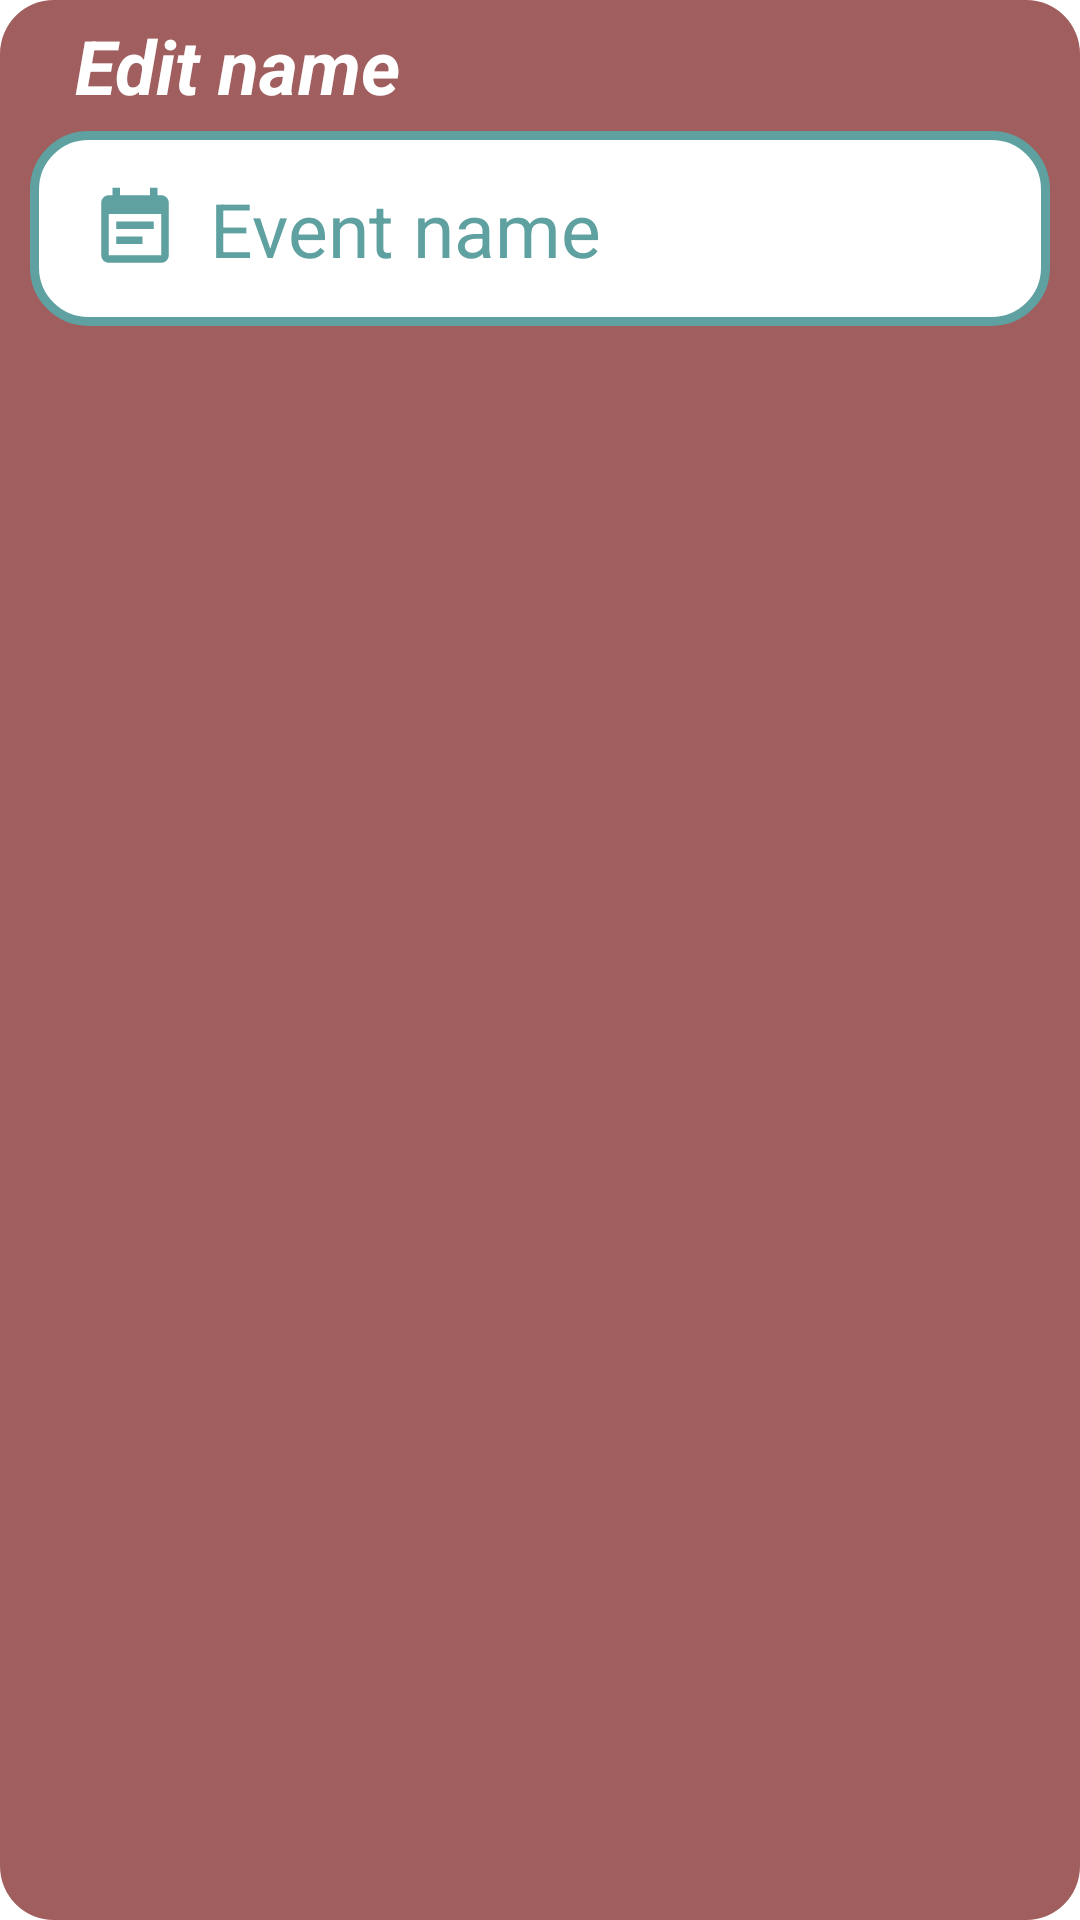

Icon bounding boxes for this 1080px x 1920px phone screenshot, format (x1, y1, x2, y2):
event note: (101, 187, 169, 263)
